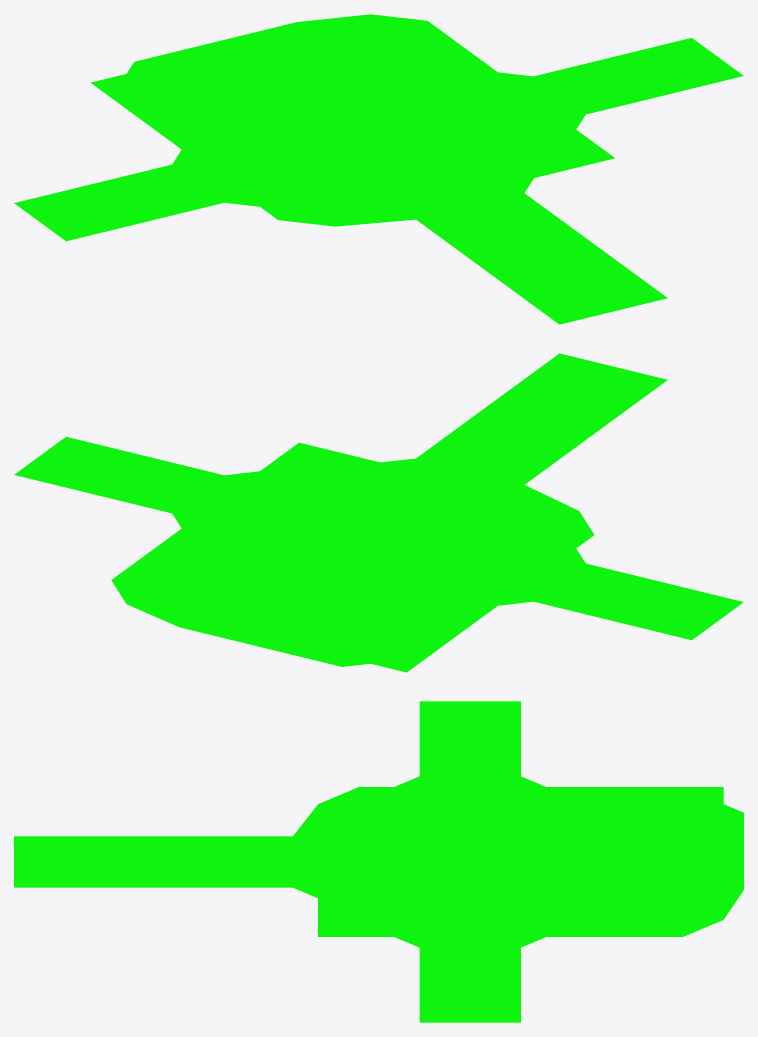
The model's file is s06a_td2-floor.glb.
The picture shows the model from 3 angles, top to bottom: view 1: azimuth 30°, elevation 25°; view 2: azimuth 150°, elevation 25°; view 3: azimuth 270°, elevation 25°; orthographic projection. The views are drawn at different scales.
Parts seen in each view (by area): view 1: collision_floor-colonly; view 2: collision_floor-colonly; view 3: collision_floor-colonly.
Part boxes in pixels (bbox=[...]): collision_floor-colonly: bbox=[14, 14, 743, 324]; collision_floor-colonly: bbox=[14, 353, 743, 672]; collision_floor-colonly: bbox=[14, 701, 743, 1022].
Bounding box in the file's own units: 75 × 0 × 72.
